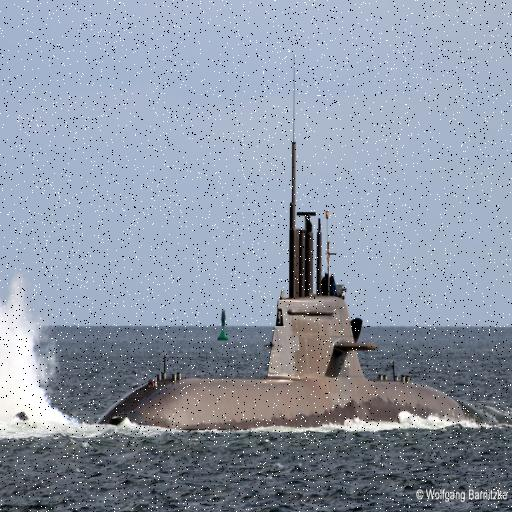submarine: (97, 144, 503, 425)
